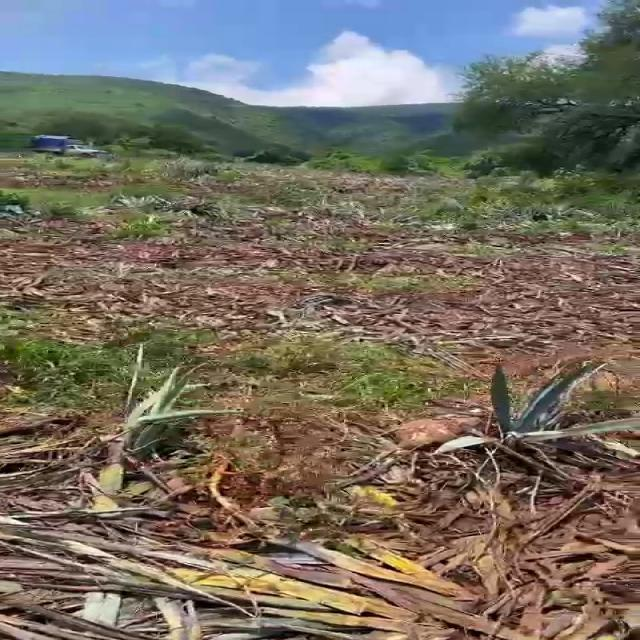agave: (432, 360, 614, 484)
